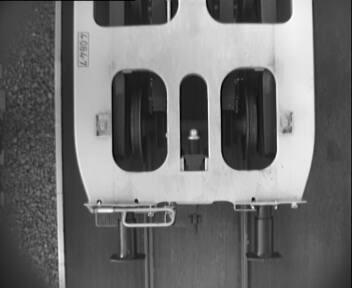wagon_scan: (106, 62, 284, 178)
